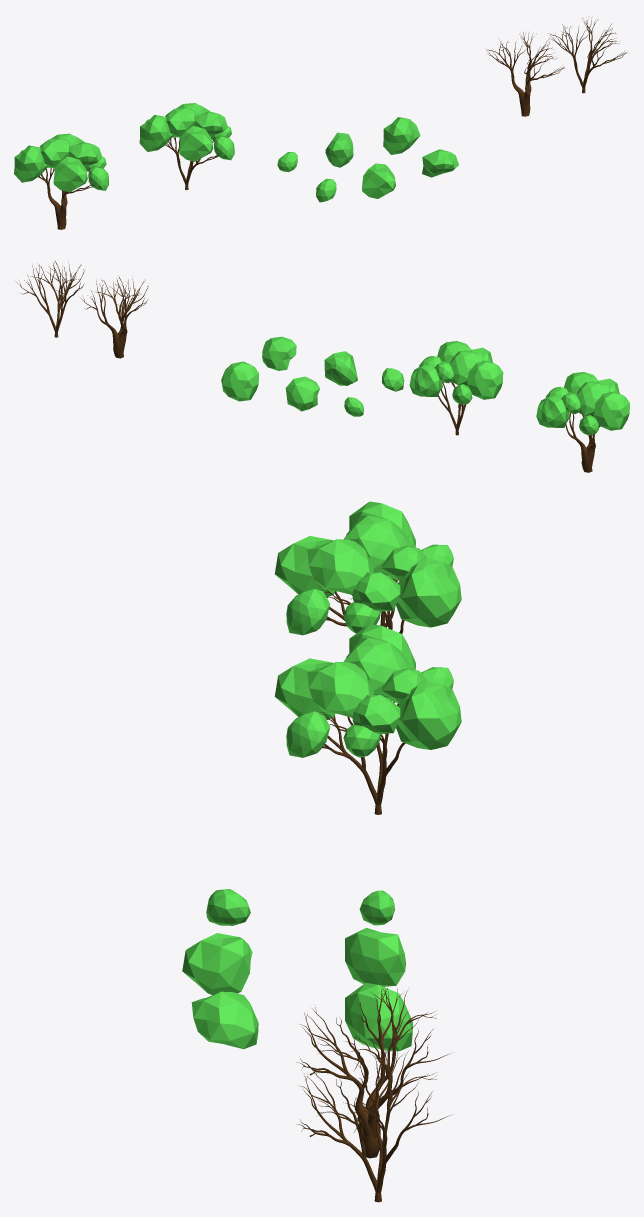
Rendered from treeproject.glb.
3 renders of one model, top to bottom at view 1: azimuth 30°, elevation 25°; view 2: azimuth 150°, elevation 25°; view 3: azimuth 270°, elevation 25°, orthographic. The views are drawn at different scales.
Parts seen in each view (by area): view 1: tree, tree.003, Icosphere, Icosphere.004, Icosphere.012, Icosphere.022, Icosphere.018, Icosphere.008, Icosphere.003, Icosphere.001, Icosphere.007, Icosphere.017 (+8 smaller); view 2: tree, Icosphere, tree.003, Icosphere.008, Icosphere.018, Icosphere.003, Icosphere.004, Icosphere.001, Icosphere.009, Icosphere.019, Icosphere.007, Icosphere.017 (+8 smaller); view 3: tree, tree.003, Icosphere.019, Icosphere.009, Icosphere.004, Icosphere, Icosphere.003, Icosphere.001, Icosphere.021, Icosphere.011, Icosphere.017, Icosphere.007 (+13 smaller).
Boxes of the visible parts, box(x1,y1,x2,y2) form: tree: box(486, 32, 564, 116); tree.003: box(549, 16, 626, 93); Icosphere: box(383, 117, 420, 154); Icosphere.004: box(362, 163, 395, 198); Icosphere.012: box(179, 126, 213, 161); Icosphere.022: box(53, 156, 87, 192); Icosphere.018: box(14, 145, 47, 182); Icosphere.008: box(139, 114, 173, 151); Icosphere.003: box(422, 149, 458, 177); Icosphere.001: box(325, 132, 353, 167); Icosphere.007: box(165, 108, 195, 137); Icosphere.017: box(40, 138, 69, 168); tree: box(81, 275, 148, 358); Icosphere: box(221, 361, 258, 401); tree.003: box(16, 261, 85, 337); Icosphere.008: box(467, 360, 503, 399); Icosphere.018: box(593, 391, 629, 430); Icosphere.003: box(262, 336, 296, 370); Icosphere.004: box(324, 351, 357, 385); Icosphere.001: box(285, 376, 319, 411); Icosphere.009: box(409, 364, 442, 396); Icosphere.019: box(536, 395, 569, 427); Icosphere.007: box(450, 350, 483, 385); Icosphere.017: box(576, 381, 609, 416); tree: box(296, 984, 450, 1158); tree.003: box(297, 1045, 450, 1202); Icosphere.019: box(396, 558, 461, 627); Icosphere.009: box(396, 680, 461, 749); Icosphere.004: box(182, 933, 252, 994); Icosphere: box(345, 983, 412, 1051); Icosphere.003: box(191, 991, 258, 1049); Icosphere.001: box(345, 928, 405, 986); Icosphere.021: box(307, 539, 374, 594); Icosphere.011: box(307, 662, 374, 717); Icosphere.017: box(343, 515, 412, 578); Icosphere.007: box(343, 638, 412, 700).
Size of the model in its own units: 62.89 by 9.93 by 12.73.
